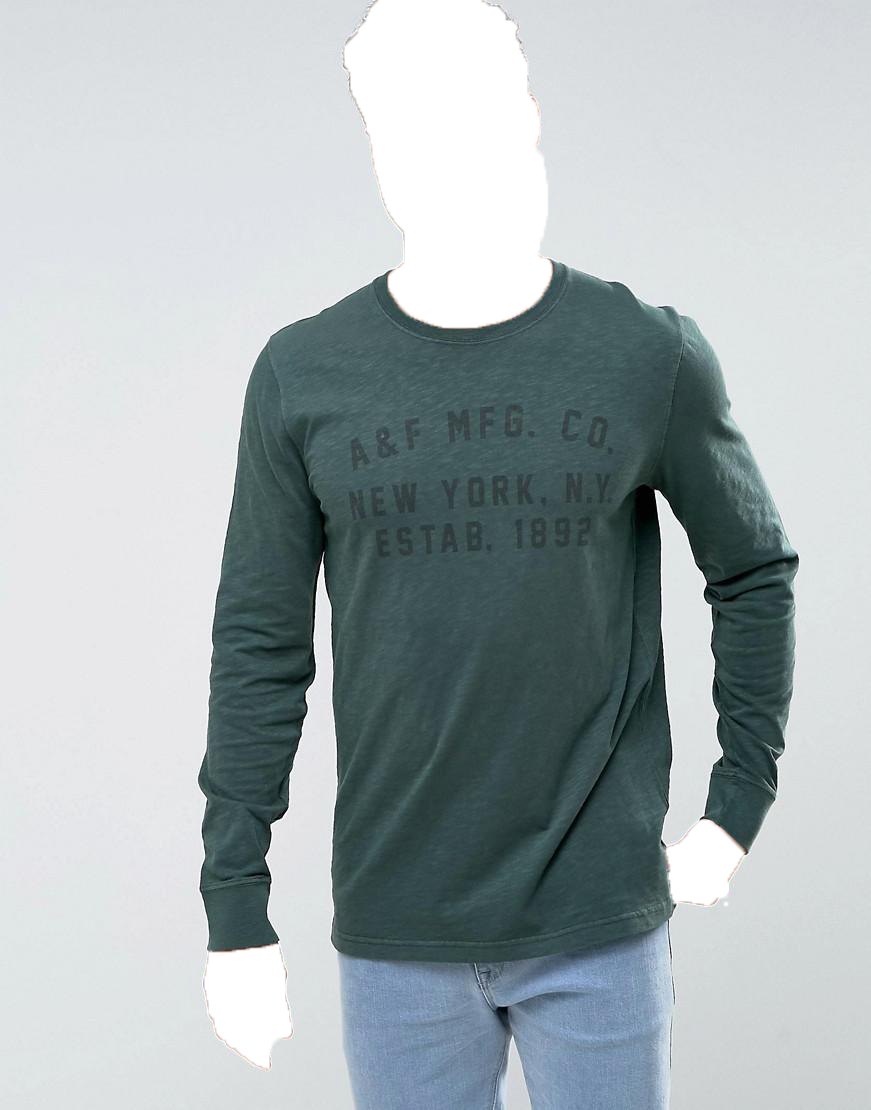teeshirt: (190, 257, 813, 959)
